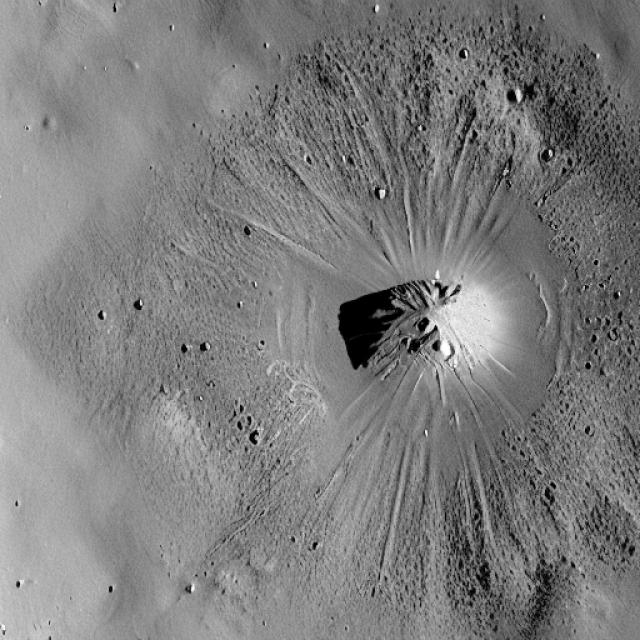crater: (307, 221, 551, 436)
